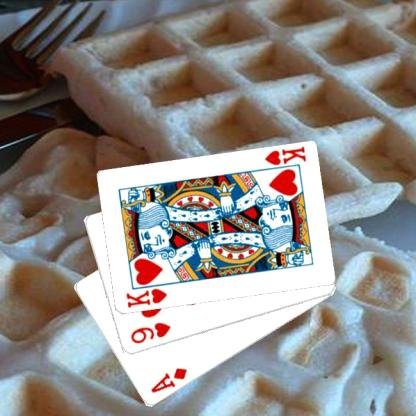9H: (127, 320, 172, 346)
AD: (148, 365, 188, 395)
KH: (123, 286, 168, 309), (261, 145, 307, 167)
